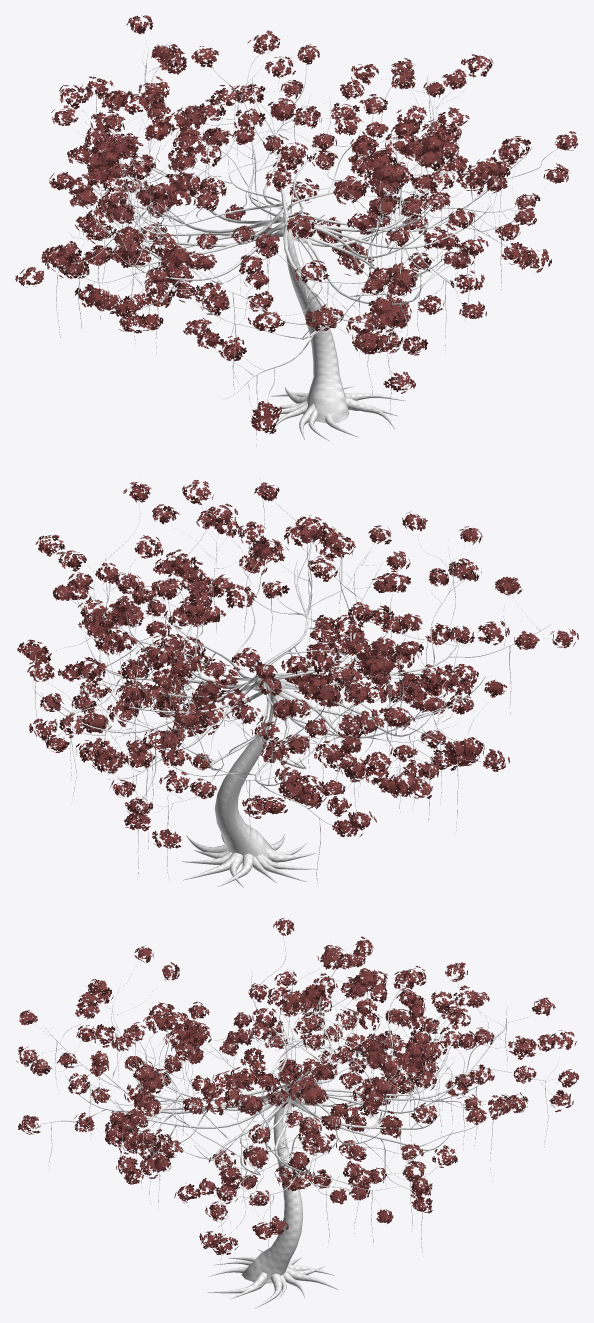
File: tree.gltf
3 renders of one model, top to bottom at view 1: azimuth 30°, elevation 25°; view 2: azimuth 150°, elevation 25°; view 3: azimuth 270°, elevation 25°, orthographic. The views are drawn at different scales.
Parts seen in each view (by area): view 1: Tree_LOD0; view 2: Tree_LOD0; view 3: Tree_LOD0.
Boxes of the visible parts, x1,y1,x2,y2 form: Tree_LOD0: [15, 15, 577, 445]; Tree_LOD0: [17, 478, 578, 887]; Tree_LOD0: [16, 917, 578, 1308].
Size of the model in its own units: 237 by 135 by 257.
Materials: 2 (2 with a texture image).
